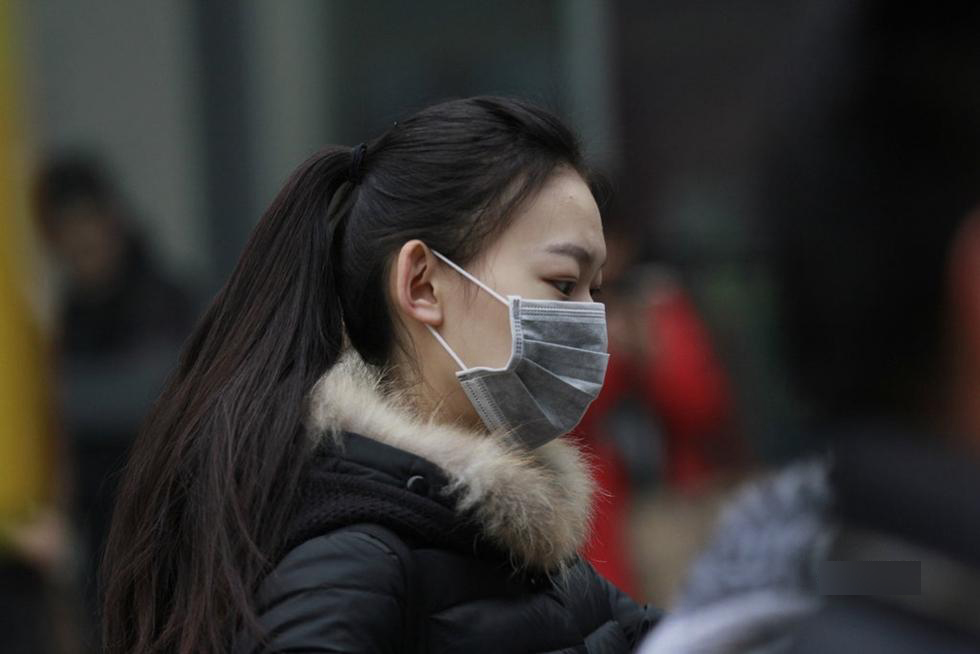face_mask: (431, 172, 614, 442)
